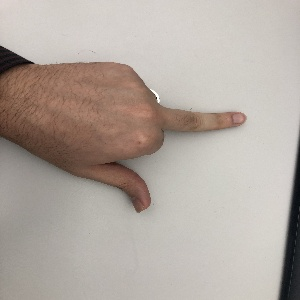hand: (31, 63, 246, 211)
